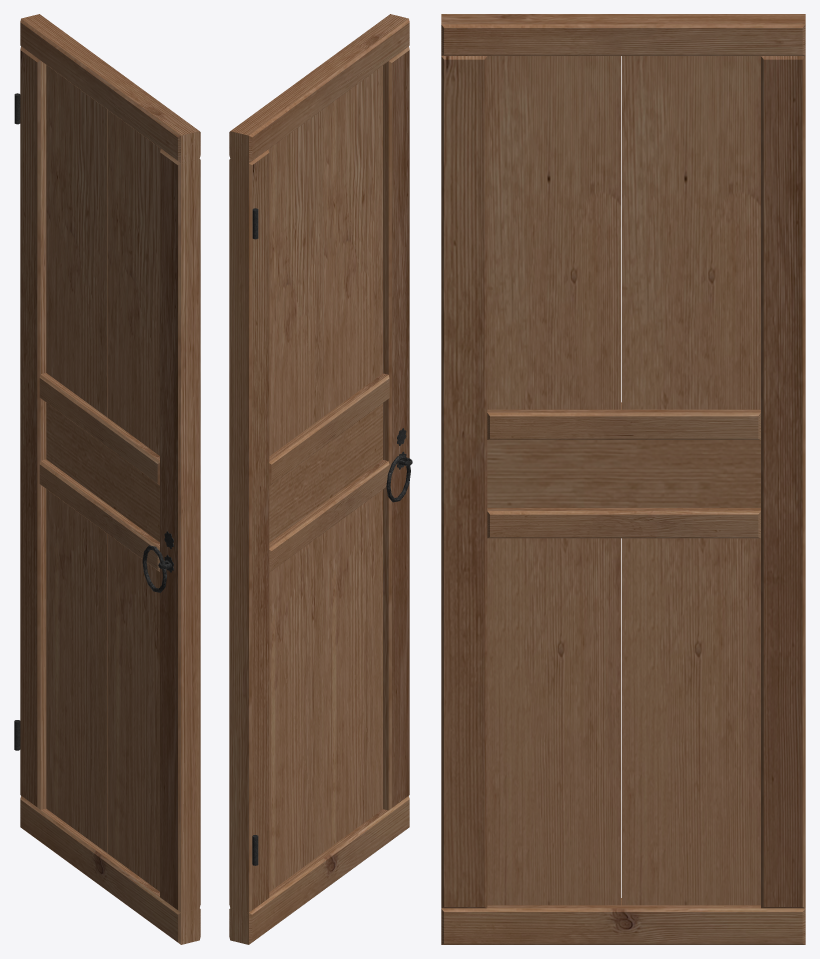
File: SM_Gyedong_Door_10C.fbx
3 views of the same model, side by side, from view 1: azimuth 30°, elevation 25°; view 2: azimuth 150°, elevation 25°; view 3: azimuth 270°, elevation 25° (orthographic). The views are drawn at different scales.
Parts seen in each view (by area): view 1: SM_Gyedong_Door_10C; view 2: SM_Gyedong_Door_10C; view 3: SM_Gyedong_Door_10C.
Part boxes in pixels (box(x1,y1,x2,y2)): SM_Gyedong_Door_10C: box(14, 14, 200, 944); SM_Gyedong_Door_10C: box(229, 14, 412, 944); SM_Gyedong_Door_10C: box(441, 14, 805, 944).
Size of the model in its own units: 7.85 by 186 by 66.55.
